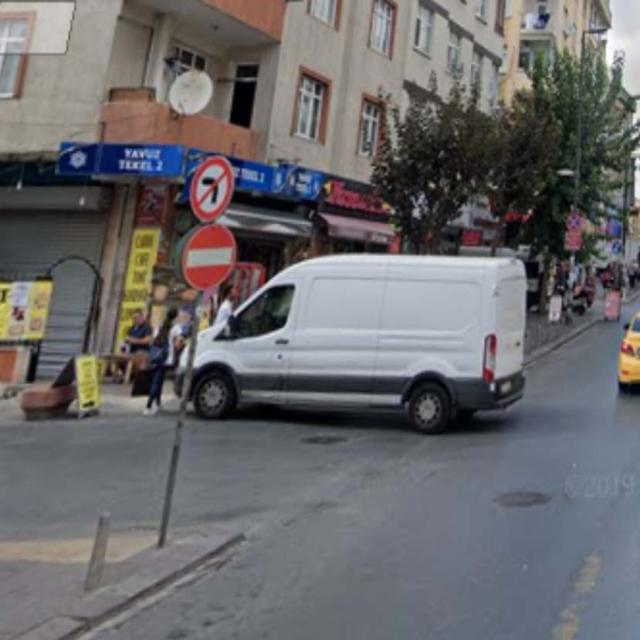girisyok: (186, 224, 235, 288)
soladonulmez: (189, 157, 232, 219)
